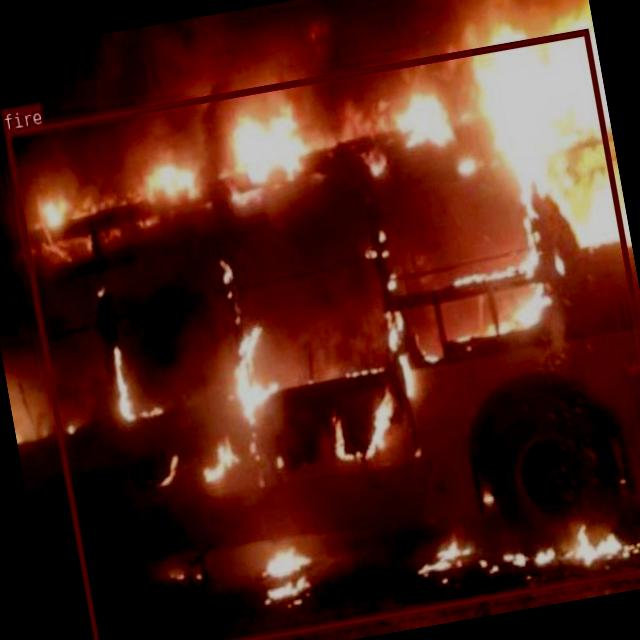fire: (2, 27, 640, 640)
